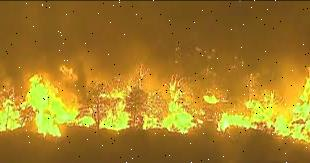fire: (0, 60, 310, 148)
